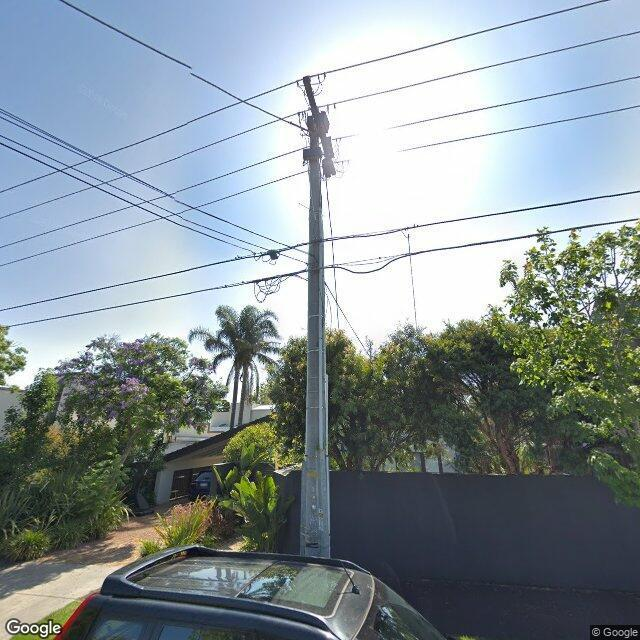crossarm: (303, 75, 333, 158)
timber-pole: (300, 115, 330, 559)
